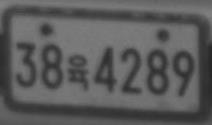2: (120, 48, 142, 94)
3: (15, 41, 37, 88)
4: (93, 46, 118, 93)
8: (146, 48, 170, 95), (40, 43, 64, 89)
9: (171, 49, 195, 96)
육: (67, 53, 89, 90)
